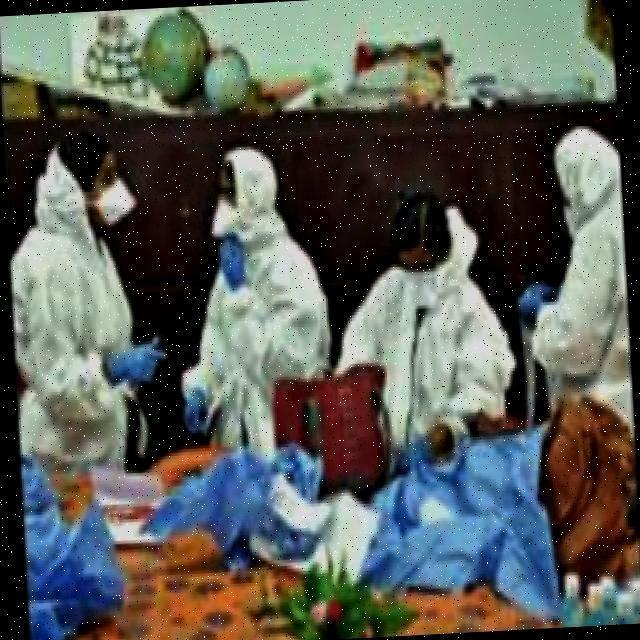apron: (104, 332, 170, 379), (401, 429, 448, 480), (210, 242, 253, 296), (185, 386, 222, 440), (510, 278, 547, 320)
gloves: (564, 130, 620, 194), (226, 140, 274, 194)
mask: (398, 273, 452, 318), (88, 184, 140, 224), (203, 203, 245, 241)
no_gloves: (394, 197, 450, 255), (53, 130, 108, 178)
